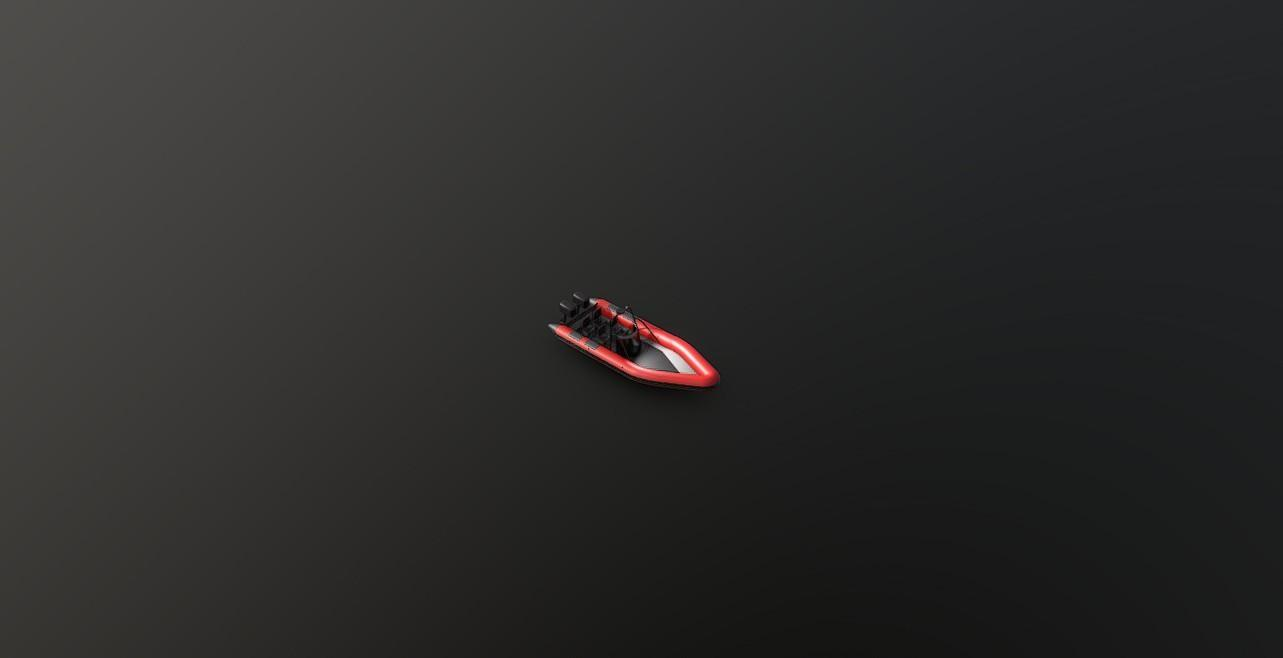Boat: (546, 290, 721, 390)
